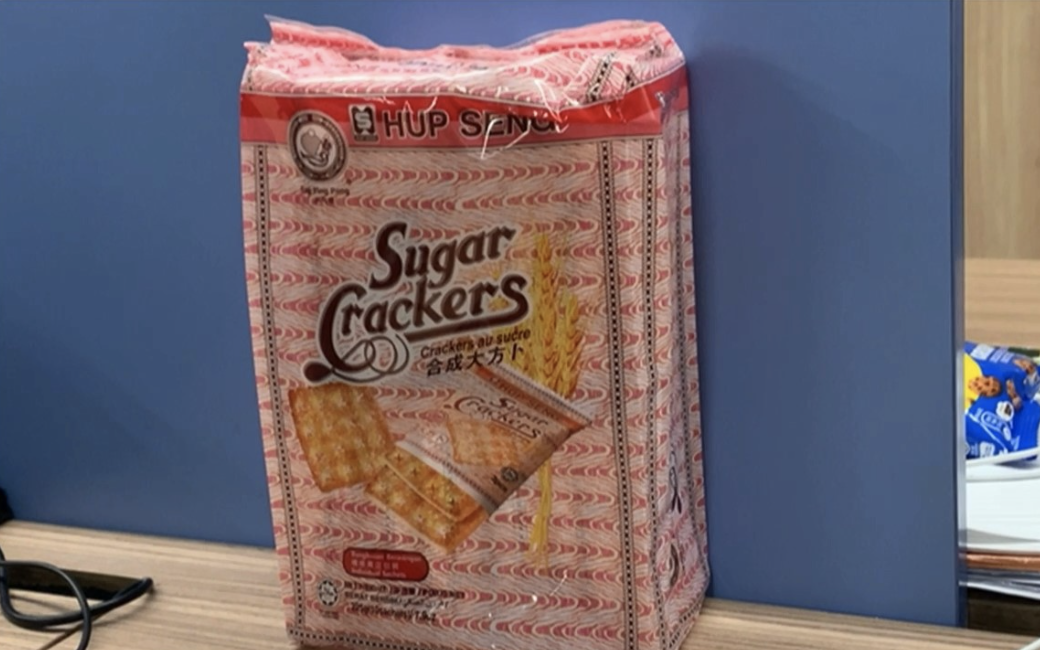crackers_150g: (285, 95, 633, 631)
